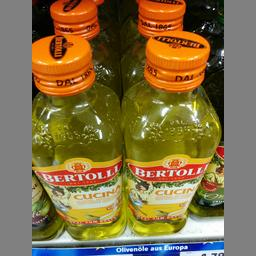oil: (122, 28, 222, 234), (32, 33, 125, 238)
